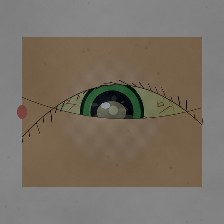corneal_ulcer: (88, 93, 135, 131)
